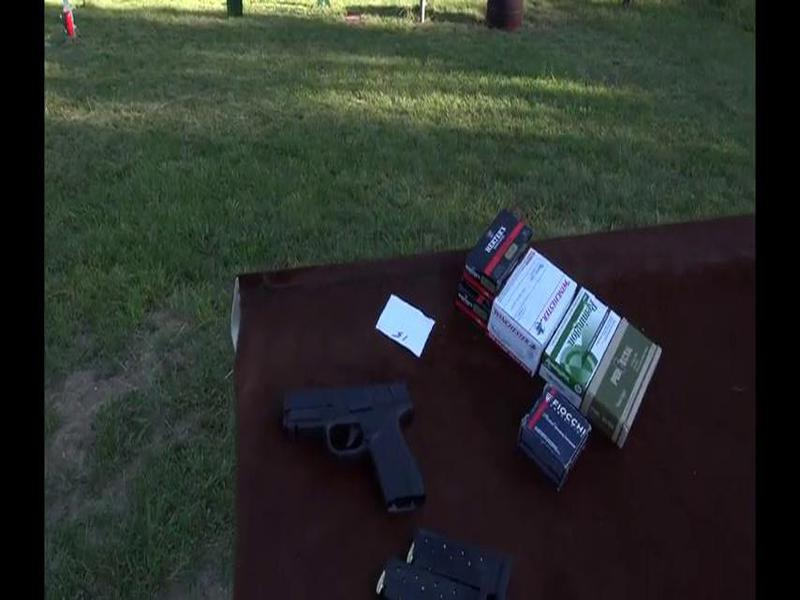Pistola: (267, 371, 448, 512)
